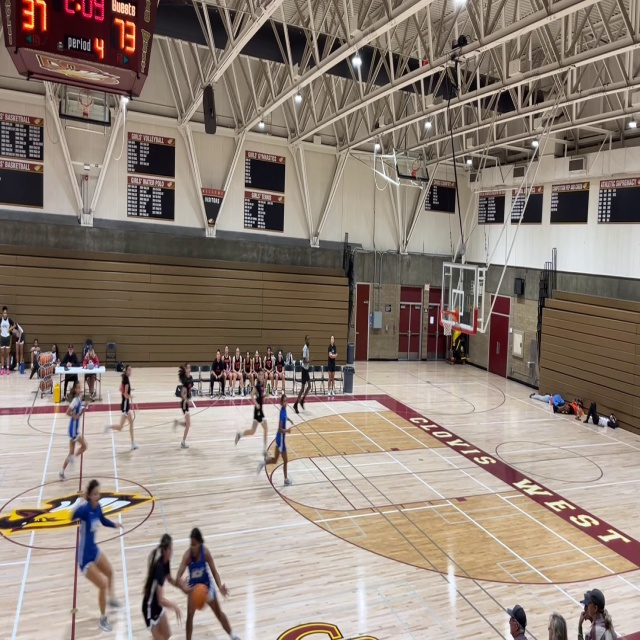Basketball: (189, 584, 208, 610)
